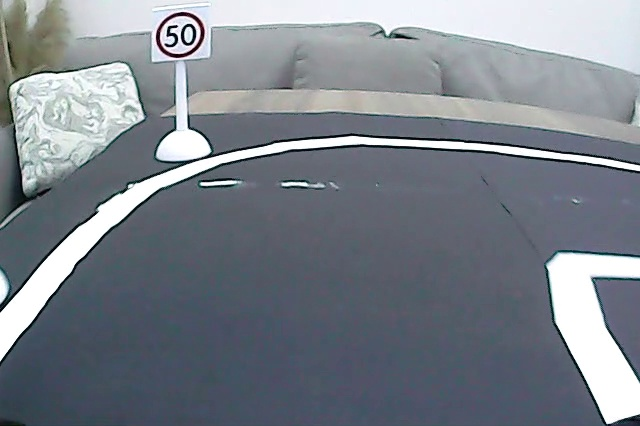speed limit 50: (155, 12, 210, 56)
